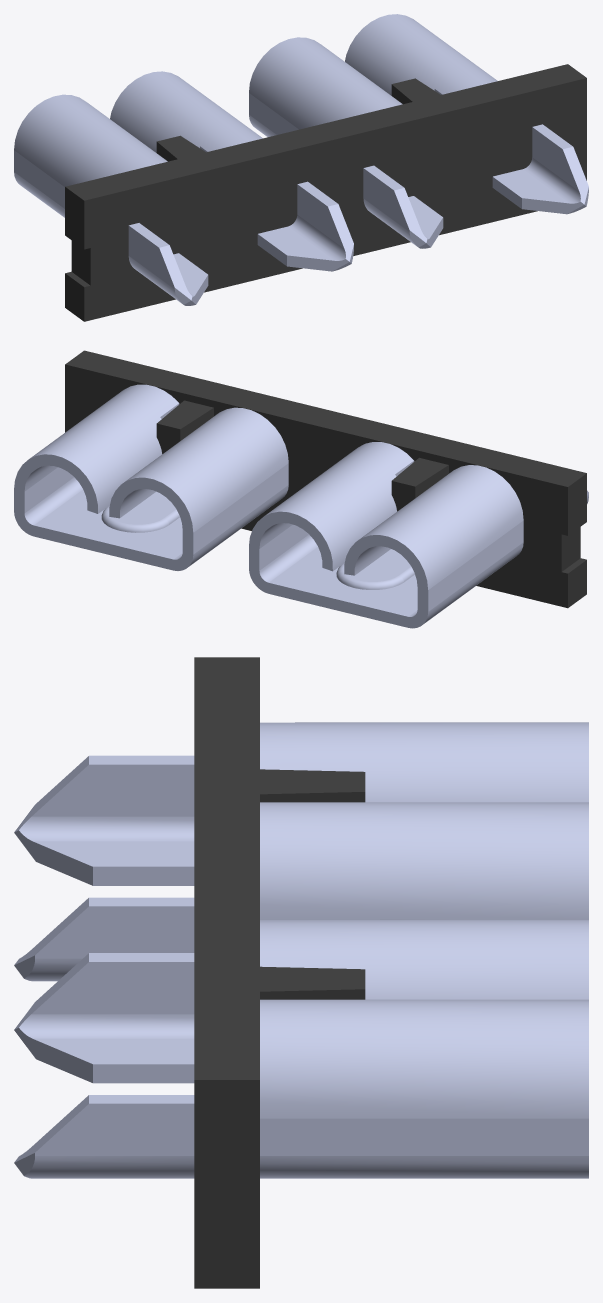
The model's file is sfe-fuse_3522-2.glb.
3 views of the same model, one above another, from view 1: azimuth 30°, elevation 25°; view 2: azimuth 150°, elevation 25°; view 3: azimuth 270°, elevation 25° (orthographic). The views are drawn at different scales.
Visible parts, largest first — view 1: 0.08333333333333333_0.08333333333333333_0.08333333333333333_, 0.5833333333333334_0.6666666666666666_0.8333333333333334_0; view 2: 0.5833333333333334_0.6666666666666666_0.8333333333333334_0, 0.08333333333333333_0.08333333333333333_0.08333333333333333_; view 3: 0.5833333333333334_0.6666666666666666_0.8333333333333334_0, 0.08333333333333333_0.08333333333333333_0.08333333333333333_.
Boxes of the visible parts, x1,y1,x2,y2 form: 0.08333333333333333_0.08333333333333333_0.08333333333333333_: (65, 64, 586, 321); 0.5833333333333334_0.6666666666666666_0.8333333333333334_0: (14, 14, 588, 305); 0.5833333333333334_0.6666666666666666_0.8333333333333334_0: (14, 384, 588, 628); 0.08333333333333333_0.08333333333333333_0.08333333333333333_: (65, 350, 586, 608); 0.5833333333333334_0.6666666666666666_0.8333333333333334_0: (14, 722, 588, 1178); 0.08333333333333333_0.08333333333333333_0.08333333333333333_: (194, 657, 365, 1288).
Size of the model in its own units: 1.93 by 0.4444 by 1.11.
